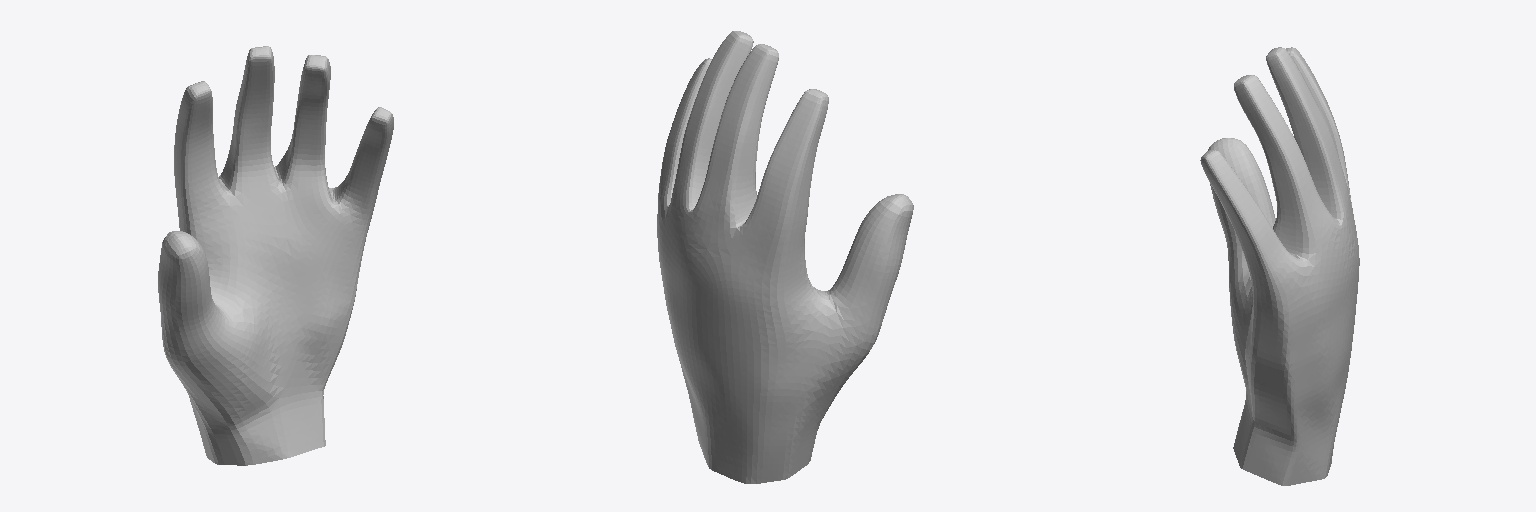
File: csuklo3.OBJ
3 renders of one model, left to right at view 1: azimuth 30°, elevation 25°; view 2: azimuth 150°, elevation 25°; view 3: azimuth 270°, elevation 25°, orthographic.
Parts seen in each view (by area): view 1: Group10879; view 2: Group10879; view 3: Group10879.
Part boxes in pixels (left/top/right/bottom): Group10879: left=158, top=46, right=393, bottom=465; Group10879: left=657, top=31, right=913, bottom=483; Group10879: left=1200, top=47, right=1359, bottom=485.
Bounding box in the file's own units: 0.5415 × 0.937 × 0.3244.